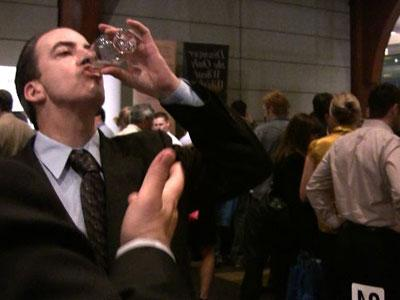person: (2, 20, 275, 300)
